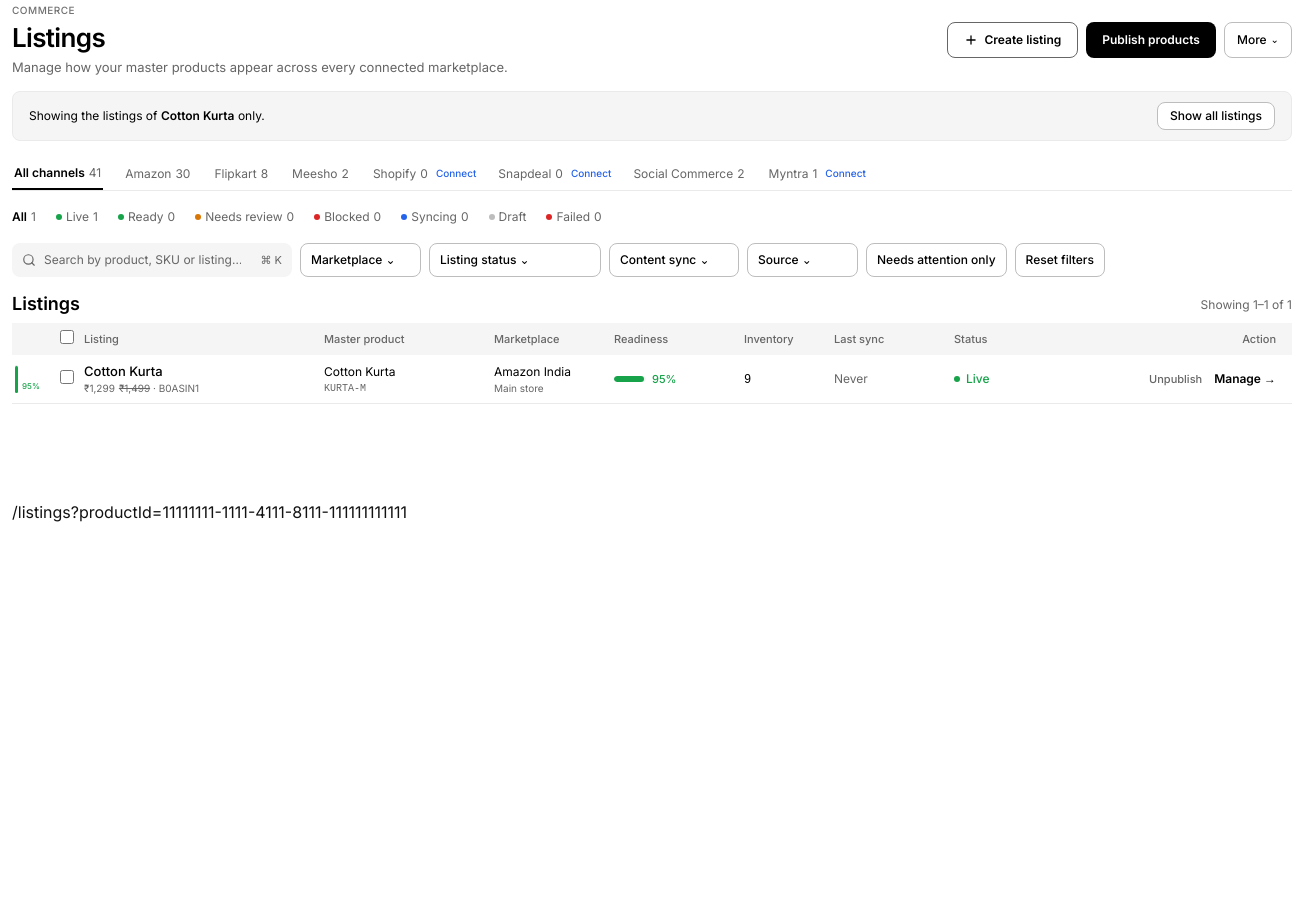
Test: ListingsPage › honours ?productId= by listing only that product's listings
Expected: the 1st link "Cotton Kurta" is shown, [84,363,163,379]
Expected: the text "Showing the listings of Cotton Kurta only." is shown, [29,107,265,125]
Step 1. Click the button "Show all listings" → (1216, 116), box [1157,102,1275,130]
(page scrolled)
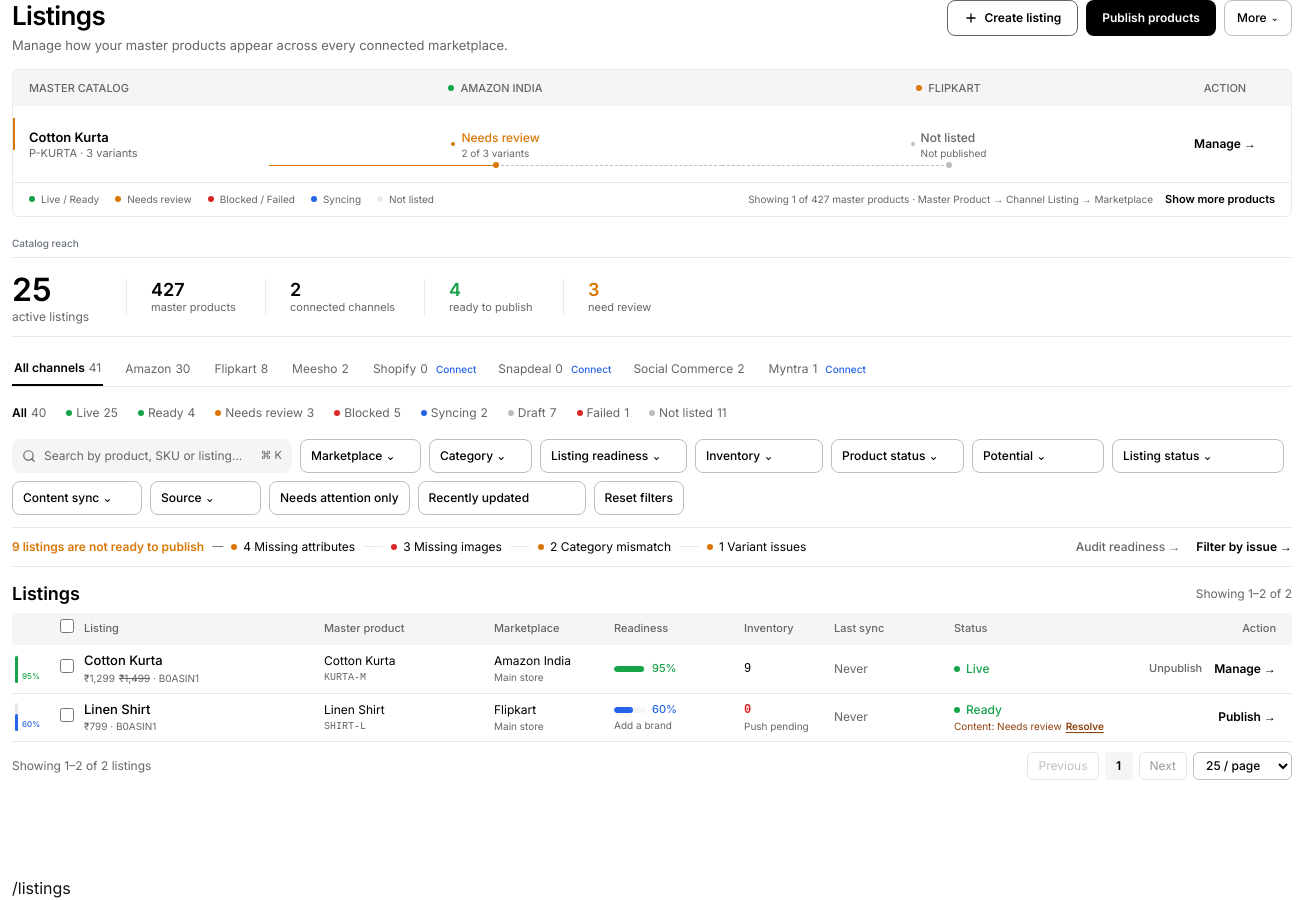
Expected: the text with test id "loc" reads "/listings", [12,878,71,898]
